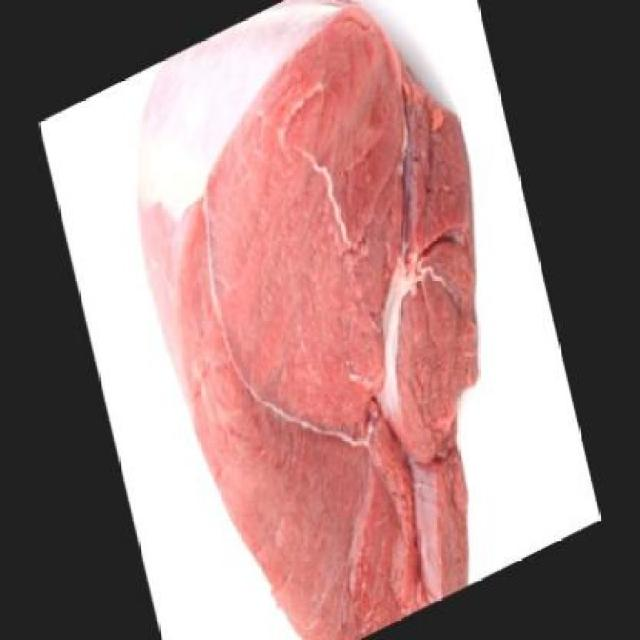beef: (100, 0, 561, 638)
